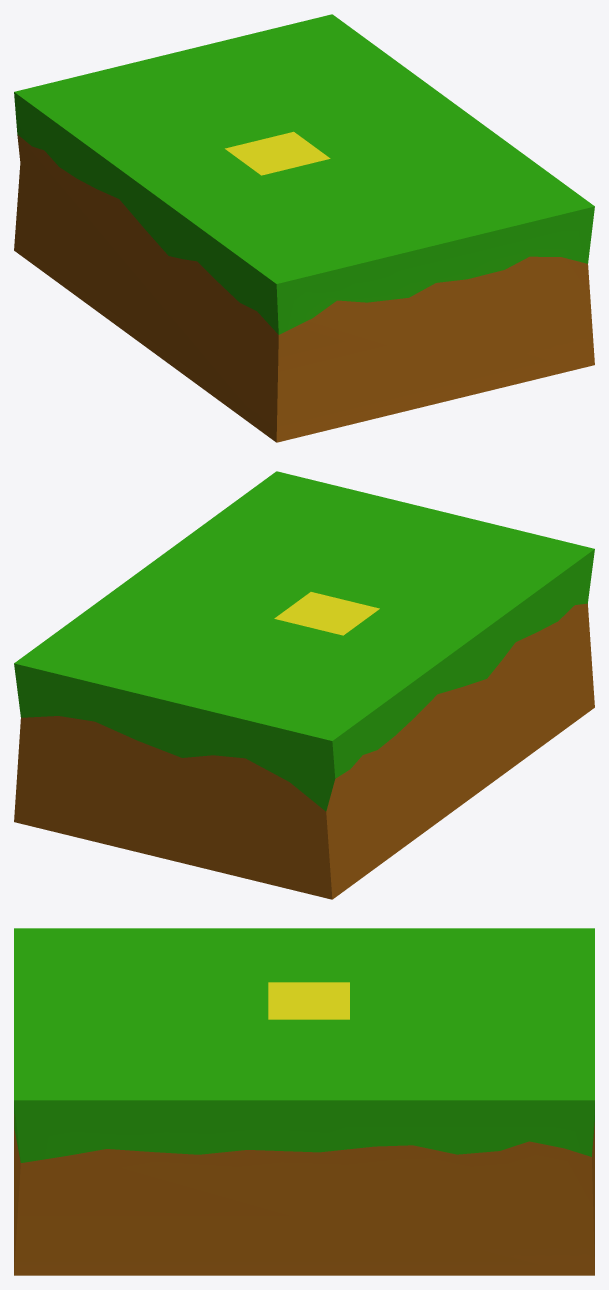
The model's file is Platform Steam6.fbx.
The picture shows the model from 3 angles, top to bottom: view 1: azimuth 30°, elevation 25°; view 2: azimuth 150°, elevation 25°; view 3: azimuth 270°, elevation 25°; orthographic projection. The views are drawn at different scales.
Visible parts, largest first — view 1: Cube; view 2: Cube; view 3: Cube.
Part boxes in pixels (<box>): Cube: <box>14,14,594,442</box>; Cube: <box>14,471,594,899</box>; Cube: <box>14,928,594,1275</box>.
Bounding box in the file's own units: 2100 × 1000 × 3000.
